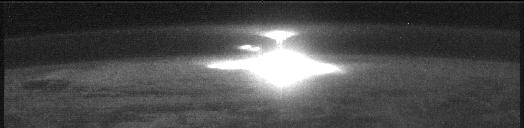negative: (258, 29, 300, 46)
